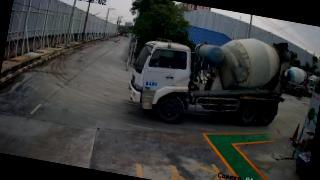cement_mixer_truck: (128, 38, 290, 126), (284, 66, 307, 97), (306, 77, 316, 96), (309, 75, 320, 87)
